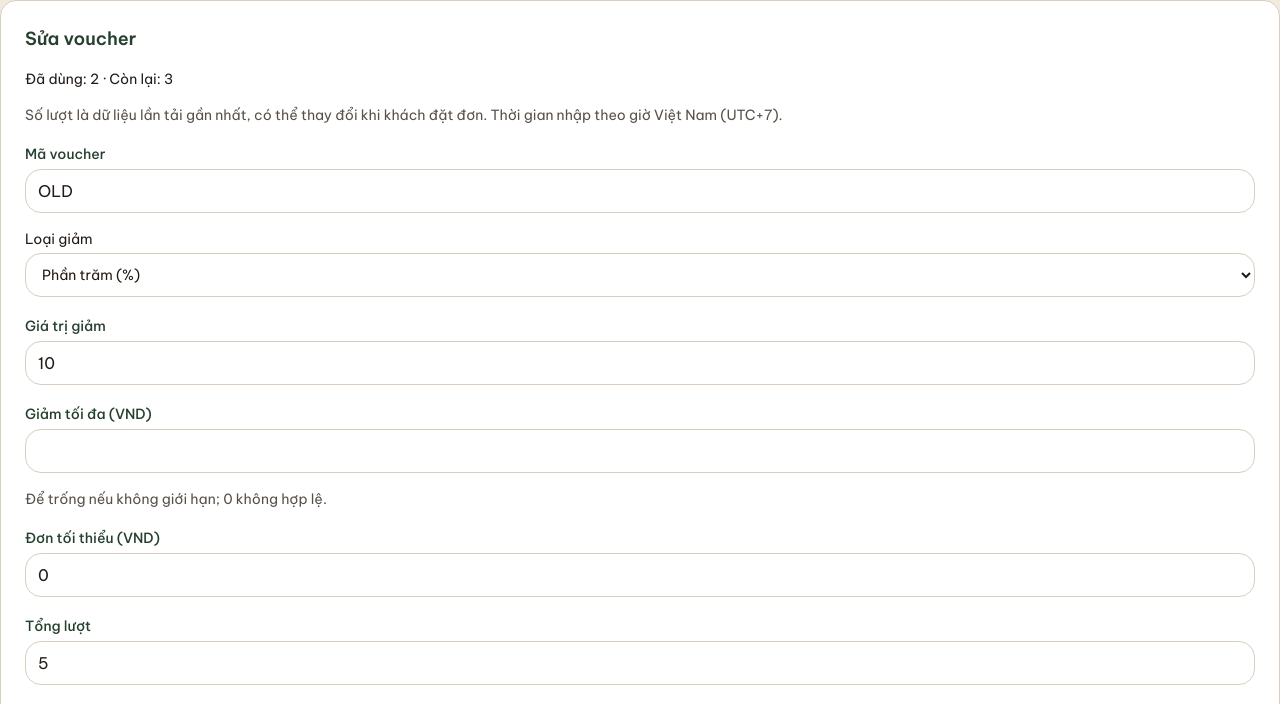
Test: reloads usage after server rejects quantity following concurrent consumption, retaining all draft fields
The width and height of the screenshot is (1280, 704).
Replace the text in the field labelled "Mã voucher" with "DRAFT". click: (640, 191)
box: [25, 169, 1255, 213]
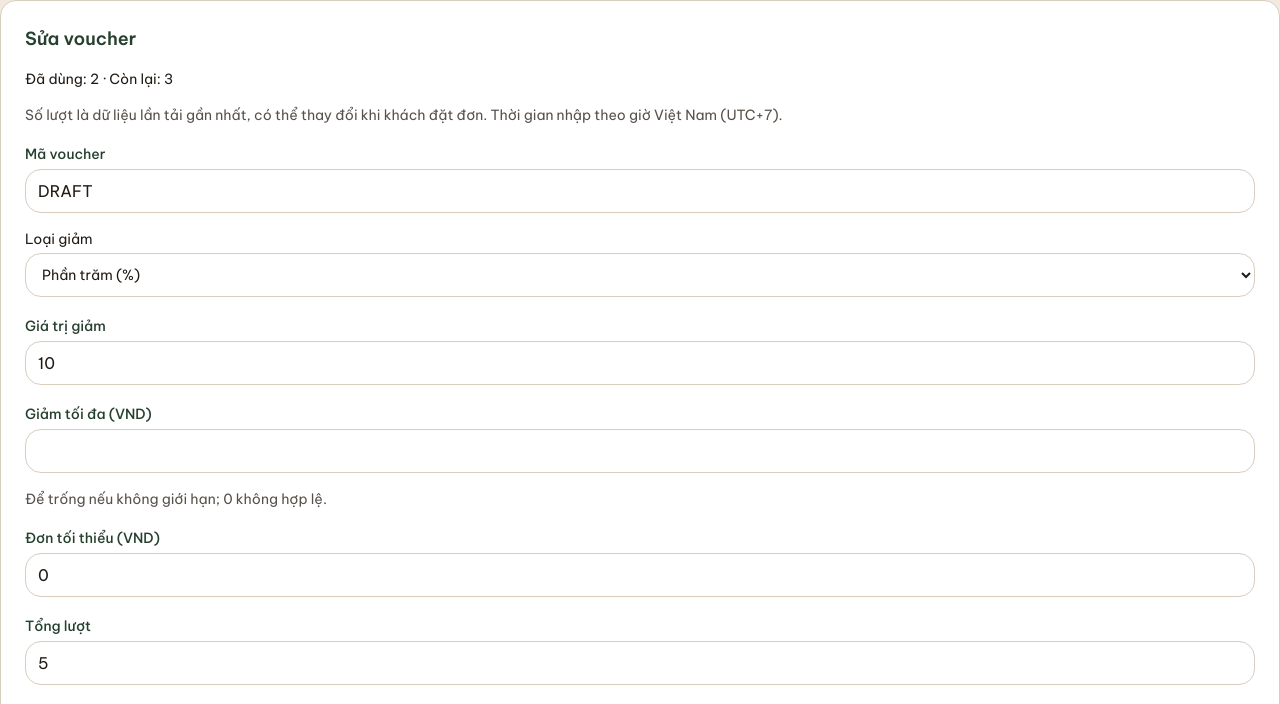
Replace the text in the number field labelled "Tổng lượt" with "3". click: (640, 663)
box: [25, 641, 1255, 685]
(page scrolled)
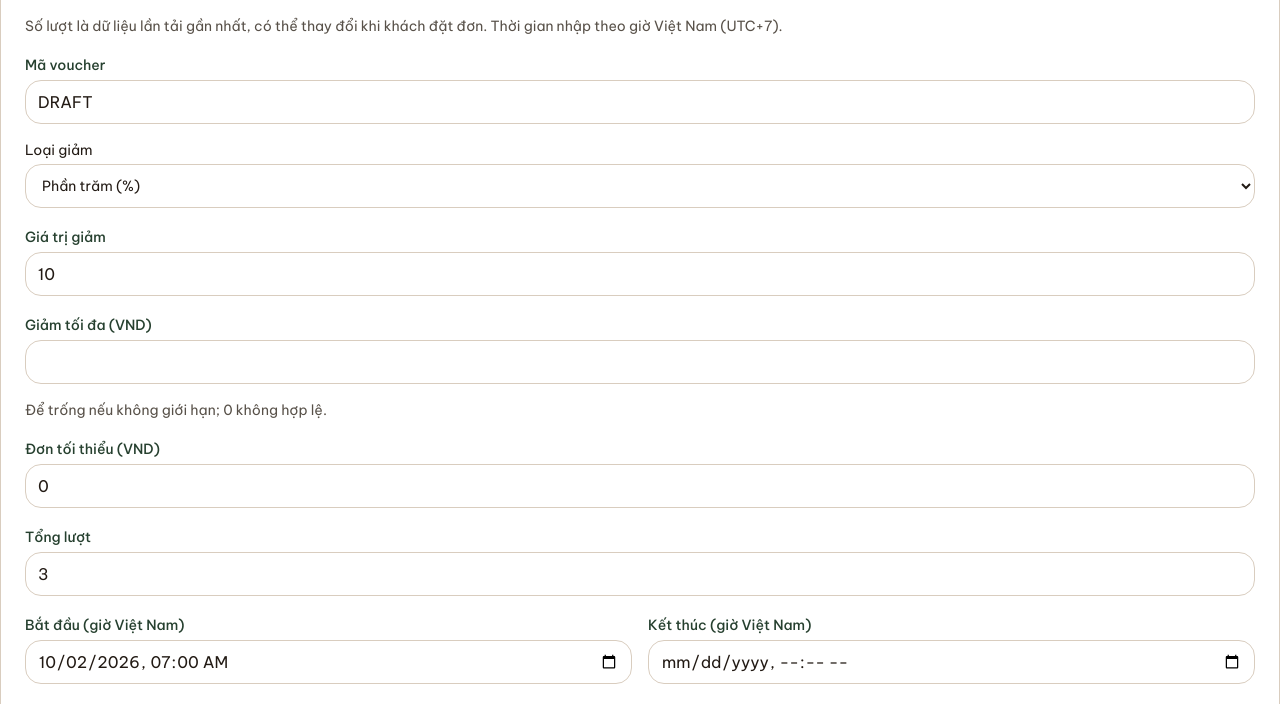
Submit the form named "Lưu voucher"
(page scrolled)
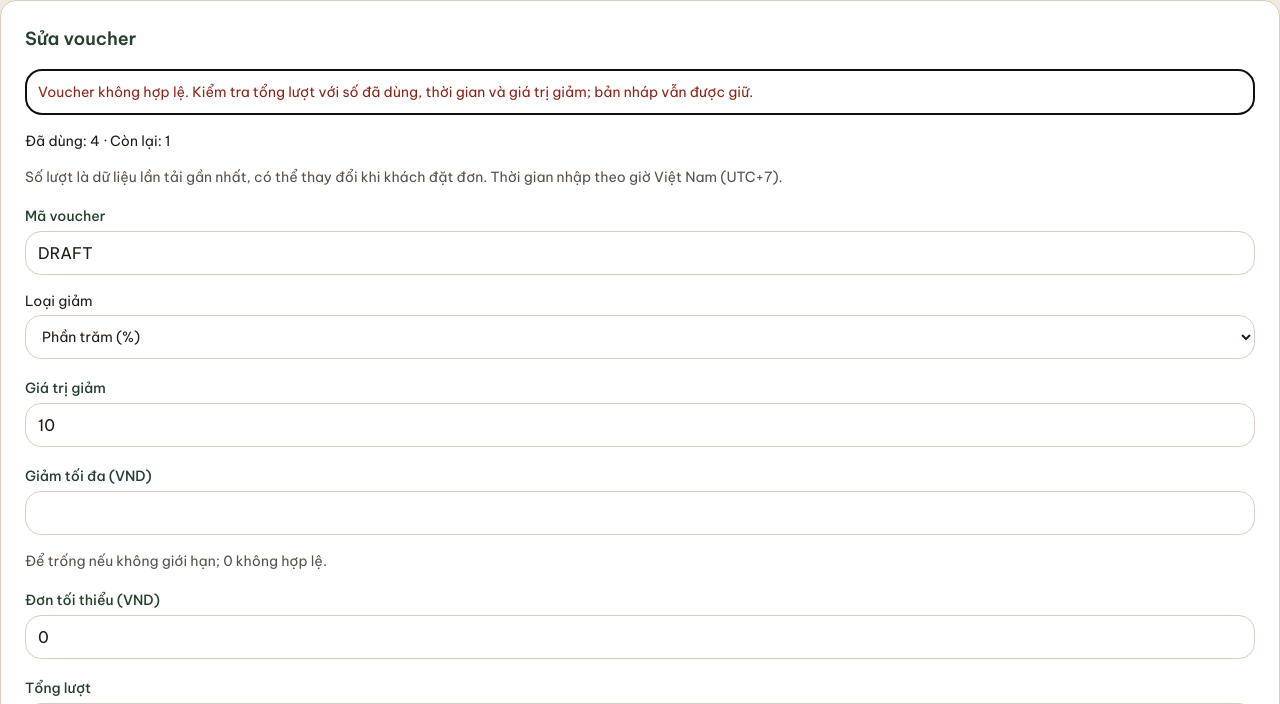
Expected: the message shows "không hợp lệ", [38, 83, 753, 101]
Expected: the text "Đã dùng: 4 · Còn lại: 1" is shown, [25, 132, 170, 150]
